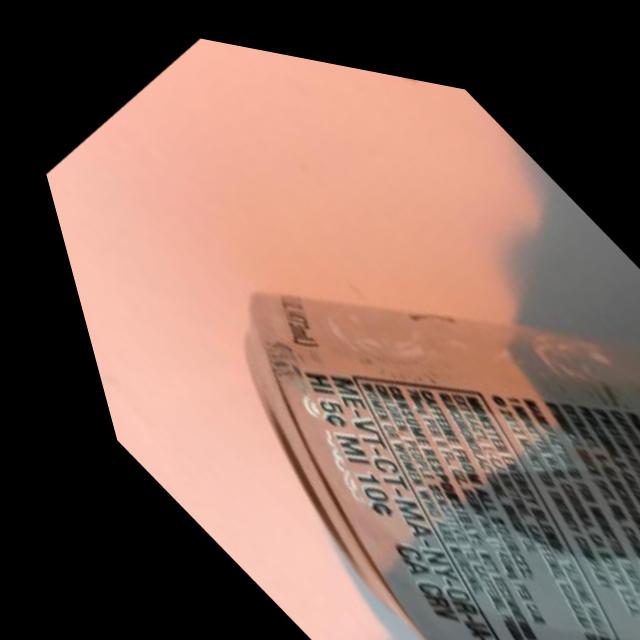metal: (30, 5, 640, 640)
